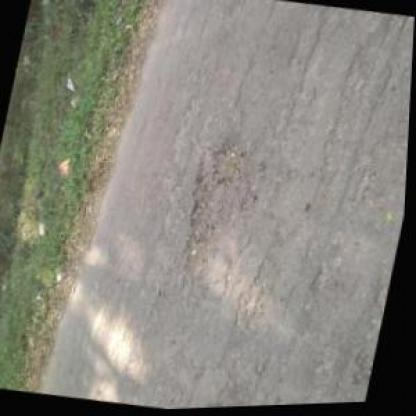pothole: (176, 132, 258, 286)
